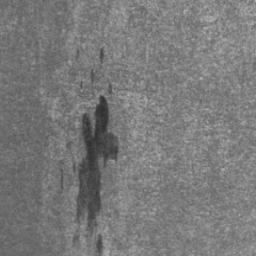Iron scale compression: (73, 94, 118, 251), (98, 48, 105, 62)
